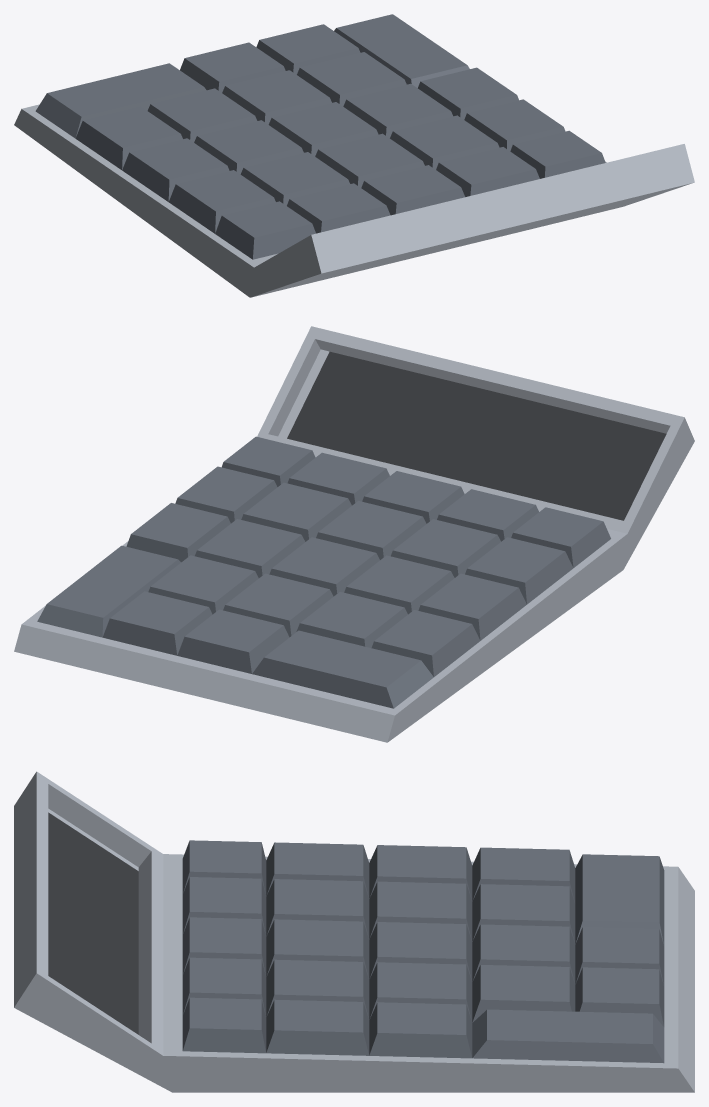
The model's file is machine_calculator_large.glb.
3 views of the same model, one above another, from view 1: azimuth 30°, elevation 25°; view 2: azimuth 150°, elevation 25°; view 3: azimuth 270°, elevation 25° (orthographic). The views are drawn at different scales.
Parts seen in each view (by area): view 1: machine_calculator_large; view 2: machine_calculator_large; view 3: machine_calculator_large.
Boxes of the visible parts, x1,y1,x2,y2 form: machine_calculator_large: [14, 14, 694, 297]; machine_calculator_large: [14, 326, 694, 742]; machine_calculator_large: [14, 771, 694, 1092].
Bounding box in the file's own units: 14.81 × 4.09 × 21.13.
Materials: 1 (1 with a texture image).
